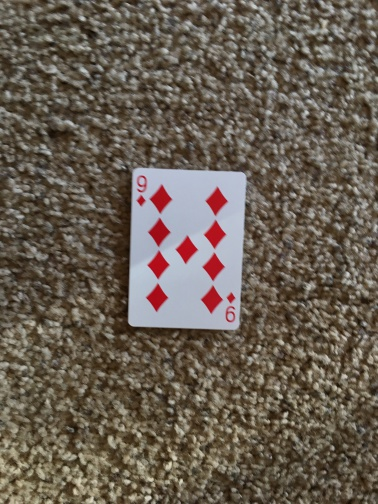nine: (129, 167, 242, 330)
